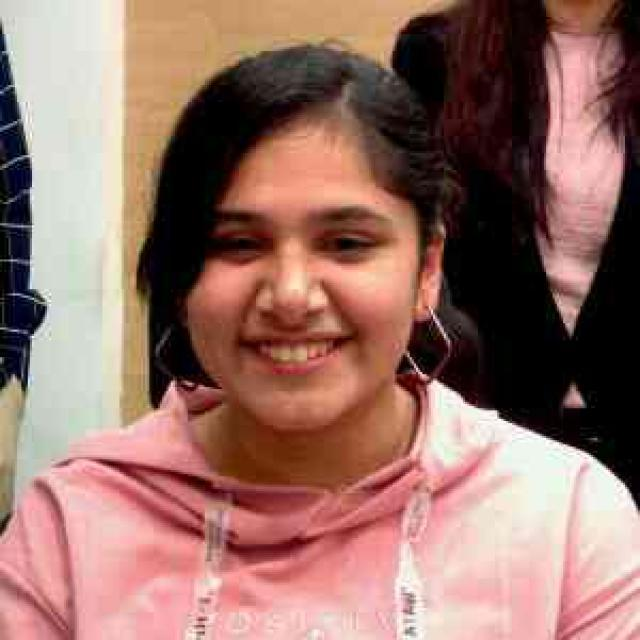puffy_eyes: (327, 251, 373, 266), (203, 254, 266, 261)
